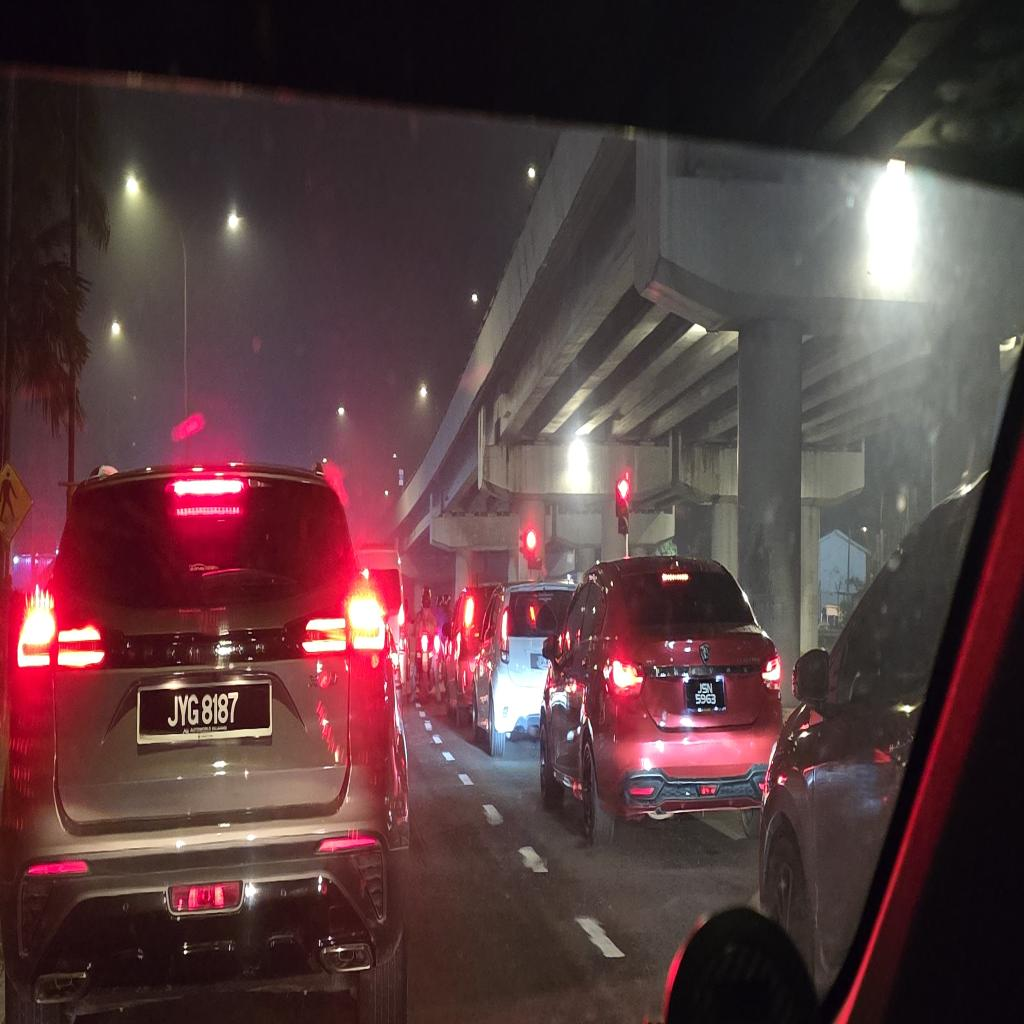car: (0, 464, 408, 1023), (540, 557, 781, 842)
car plate: (137, 680, 272, 744), (687, 679, 725, 712)
